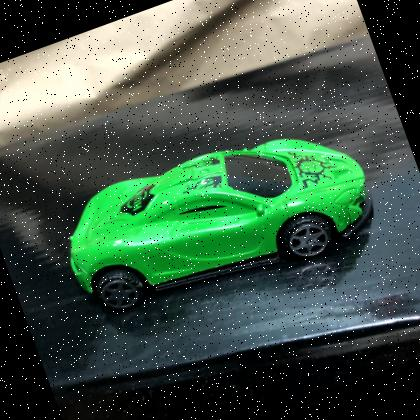Car: (69, 139, 374, 312)
